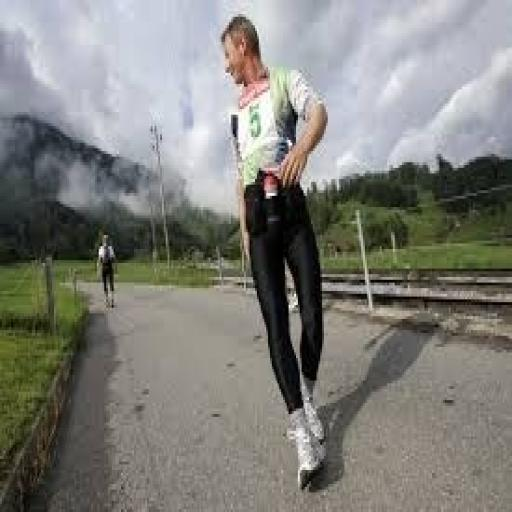running: (218, 12, 331, 492)
